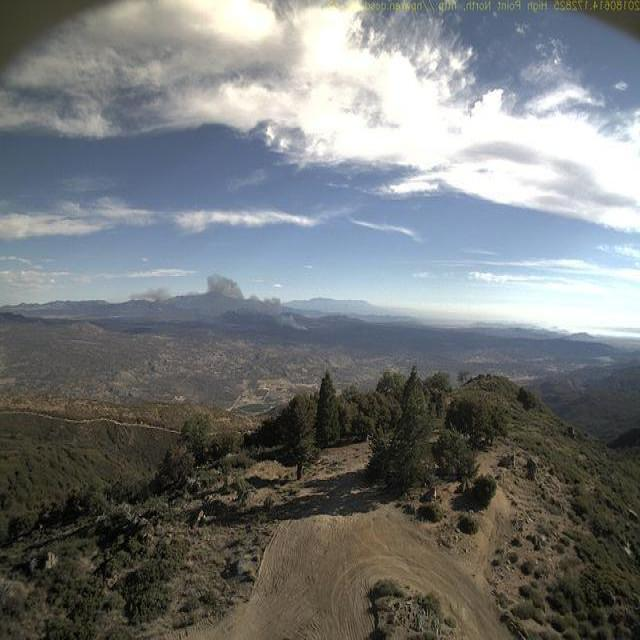Smoke: (202, 268, 312, 337)
